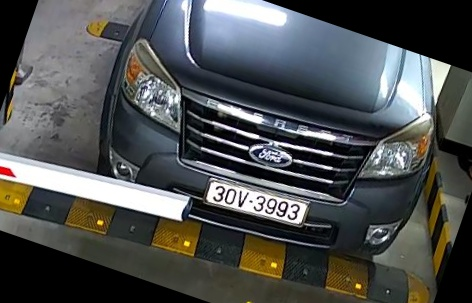plate: (202, 170, 312, 230)
